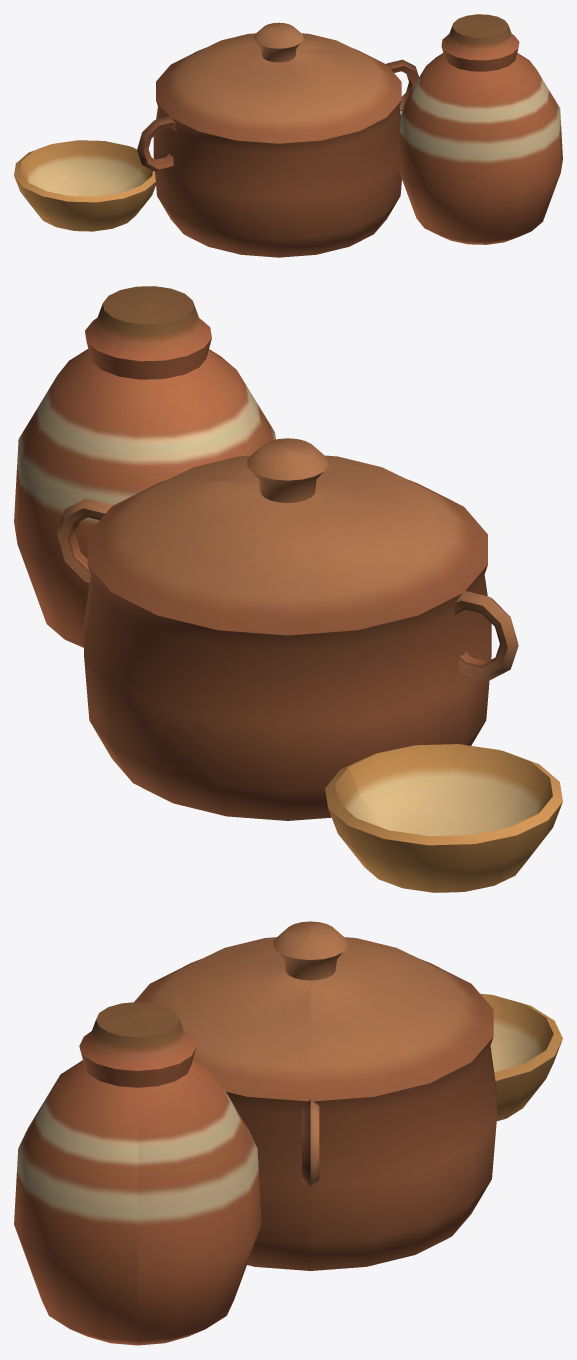
The model's file is SM_Igloo_Pots.glb.
3 views of the same model, one above another, from view 1: azimuth 30°, elevation 25°; view 2: azimuth 150°, elevation 25°; view 3: azimuth 270°, elevation 25° (orthographic). The views are drawn at different scales.
Visible parts, largest first — view 1: SM_Igloo_Pots; view 2: SM_Igloo_Pots; view 3: SM_Igloo_Pots.
Part boxes in pixels (x1,y1,x2,y2): SM_Igloo_Pots: (14, 14, 562, 257); SM_Igloo_Pots: (14, 286, 562, 892); SM_Igloo_Pots: (14, 921, 562, 1345).
Bounding box in the file's own units: 0.8692 × 0.395 × 0.656.
Materials: 1 (1 with a texture image).
